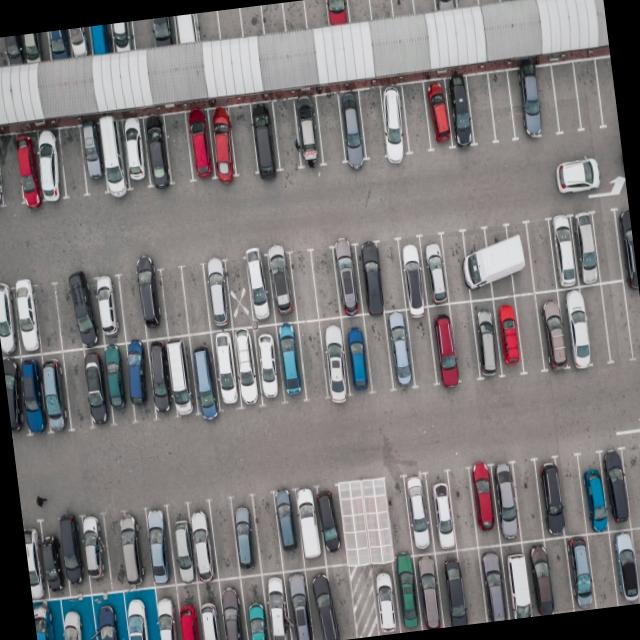car: (558, 284, 600, 369), (186, 332, 224, 415), (535, 290, 572, 371), (165, 336, 202, 417), (509, 64, 548, 140), (182, 504, 219, 584), (252, 324, 288, 406), (208, 329, 244, 411), (142, 504, 178, 586), (338, 312, 374, 393), (34, 351, 70, 432), (480, 222, 518, 298), (499, 540, 536, 618), (465, 464, 500, 546), (424, 469, 459, 551), (272, 320, 307, 401), (63, 276, 101, 350), (428, 304, 462, 386), (400, 472, 434, 554), (490, 460, 524, 542), (228, 327, 262, 409), (14, 354, 48, 436), (317, 312, 350, 396), (96, 119, 132, 195), (78, 512, 113, 590), (235, 570, 274, 640), (124, 340, 158, 420), (470, 296, 504, 376), (490, 293, 524, 373), (228, 496, 262, 576), (163, 504, 197, 584), (376, 85, 412, 160), (116, 116, 152, 191), (52, 514, 86, 593), (477, 544, 512, 620), (102, 339, 134, 422), (383, 310, 417, 388), (420, 78, 456, 151), (394, 237, 430, 310), (256, 569, 293, 640), (461, 225, 496, 300), (564, 532, 598, 609), (116, 511, 150, 588), (303, 563, 337, 640), (293, 487, 326, 566), (93, 274, 129, 346), (274, 489, 306, 570), (200, 258, 235, 332), (547, 214, 582, 288), (245, 249, 279, 325), (578, 456, 612, 532), (34, 128, 68, 204), (605, 526, 638, 604), (145, 338, 177, 418), (534, 460, 566, 540), (598, 452, 630, 532), (409, 551, 442, 628), (115, 584, 160, 640), (352, 242, 387, 314), (182, 109, 216, 183), (264, 249, 298, 323), (8, 283, 42, 357), (283, 566, 317, 640), (370, 562, 404, 636), (434, 549, 467, 625), (290, 96, 324, 169), (313, 490, 345, 567), (84, 346, 115, 425), (336, 90, 369, 164), (502, 222, 535, 296), (206, 107, 239, 180), (568, 212, 600, 286), (142, 115, 174, 189), (389, 558, 421, 632), (522, 542, 554, 616), (212, 575, 248, 640), (38, 518, 68, 596), (248, 102, 280, 174), (444, 78, 476, 150), (78, 124, 110, 196), (47, 593, 96, 640), (14, 131, 44, 206), (189, 581, 227, 640), (332, 246, 364, 316), (418, 236, 450, 306), (169, 581, 206, 640), (137, 269, 168, 338), (150, 583, 187, 640), (76, 276, 105, 348), (87, 592, 130, 640), (23, 526, 48, 604), (2, 356, 26, 435), (64, 595, 104, 640), (616, 206, 638, 282), (0, 281, 21, 356), (37, 596, 71, 640), (32, 599, 62, 640), (109, 21, 137, 53), (171, 13, 199, 45), (88, 24, 116, 56), (150, 15, 177, 48), (46, 28, 73, 61), (19, 32, 46, 64), (39, 29, 64, 62), (66, 26, 91, 58), (2, 34, 24, 66), (323, 0, 350, 26), (433, 0, 460, 10)
free: (600, 280, 636, 362), (292, 320, 328, 400), (446, 300, 481, 382), (252, 494, 287, 576), (444, 466, 478, 549), (584, 528, 620, 606), (452, 546, 488, 623), (381, 478, 414, 562), (322, 562, 358, 639), (404, 308, 439, 387), (515, 291, 550, 370), (511, 462, 545, 542), (60, 348, 94, 428), (556, 458, 590, 538), (206, 500, 240, 580), (462, 70, 497, 146), (580, 283, 612, 365), (360, 312, 394, 389), (590, 209, 624, 285), (228, 100, 262, 176), (397, 82, 432, 155), (314, 91, 348, 166), (162, 111, 196, 186), (524, 220, 558, 294), (355, 88, 389, 162), (220, 256, 253, 332), (285, 251, 319, 324), (307, 248, 341, 320), (270, 98, 304, 170), (438, 232, 472, 304), (372, 240, 405, 314), (544, 536, 576, 612), (158, 266, 192, 337), (550, 61, 583, 134), (54, 280, 88, 350), (58, 126, 90, 199), (178, 264, 211, 334), (32, 283, 64, 355), (486, 70, 518, 142), (574, 60, 606, 132), (103, 514, 132, 590), (339, 488, 366, 566), (118, 272, 148, 342), (533, 64, 561, 138), (0, 134, 26, 208), (594, 58, 618, 128), (620, 447, 640, 529), (622, 280, 640, 358), (280, 0, 308, 33), (217, 7, 244, 40), (130, 18, 156, 51), (238, 5, 264, 38), (260, 2, 286, 35), (196, 10, 221, 42), (303, 0, 330, 29), (344, 0, 371, 23), (632, 524, 640, 601), (367, 0, 394, 20), (390, 0, 417, 17), (409, 0, 436, 13), (0, 36, 9, 68), (452, 0, 478, 8)
